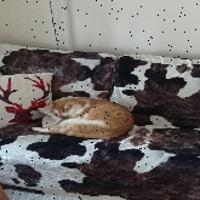asleep: (31, 96, 133, 139)
